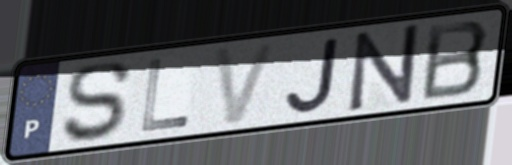B: (418, 17, 493, 104)
J: (283, 35, 343, 115)
L: (138, 57, 192, 135)
N: (347, 21, 422, 115)
S: (60, 59, 134, 147)
V: (210, 39, 281, 128)
